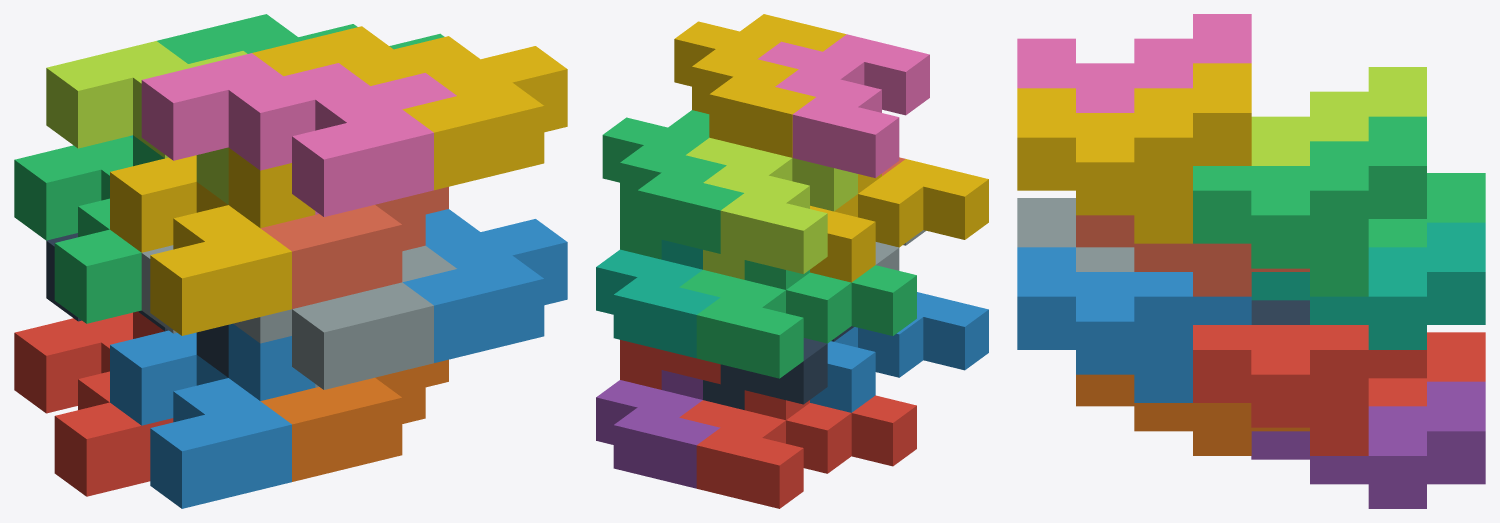
Rendered from tiling.obj.
3 views of the same model, side by side, from view 1: azimuth 30°, elevation 25°; view 2: azimuth 150°, elevation 25°; view 3: azimuth 270°, elevation 25° (orthographic). The views are drawn at different scales.
Parts seen in each view (by area): view 1: copy_2_domain_4, copy_1_domain_4, copy_1_domain_2, copy_2_domain_8, copy_1_domain_1, copy_2_domain_6, copy_1_domain_3, copy_2_domain_2, copy_1_domain_6, copy_1_domain_8, copy_2_domain_3, copy_2_domain_7 (+1 smaller); view 2: copy_1_domain_1, copy_1_domain_3, copy_2_domain_4, copy_2_domain_3, copy_2_domain_8, copy_2_domain_7, copy_1_domain_4, copy_1_domain_2, copy_1_domain_7, copy_1_domain_5, copy_2_domain_1, copy_2_domain_5 (+1 smaller); view 3: copy_2_domain_8, copy_2_domain_7, copy_2_domain_6, copy_2_domain_5, copy_1_domain_5, copy_1_domain_7, copy_2_domain_4, copy_2_domain_3, copy_1_domain_6, copy_1_domain_8, copy_1_domain_1, copy_1_domain_3 (+2 smaller).
Part boxes in pixels (left/top/right/bottom): copy_2_domain_4: left=141, top=53, right=456, bottom=216; copy_1_domain_4: left=110, top=148, right=315, bottom=335; copy_1_domain_2: left=110, top=323, right=315, bottom=508; copy_2_domain_8: left=252, top=26, right=567, bottom=190; copy_1_domain_1: left=14, top=311, right=173, bottom=496; copy_2_domain_6: left=402, top=209, right=567, bottom=362; copy_1_domain_3: left=14, top=135, right=164, bottom=323; copy_2_domain_2: left=141, top=245, right=456, bottom=389; copy_1_domain_6: left=260, top=359, right=448, bottom=481; copy_1_domain_8: left=261, top=187, right=448, bottom=308; copy_2_domain_3: left=46, top=41, right=247, bottom=204; copy_2_domain_7: left=157, top=14, right=444, bottom=63; copy_1_domain_1: left=679, top=390, right=916, bottom=508; copy_1_domain_3: left=679, top=260, right=916, bottom=378; copy_2_domain_4: left=757, top=34, right=929, bottom=177; copy_2_domain_3: left=686, top=137, right=857, bottom=279; copy_2_domain_8: left=674, top=14, right=846, bottom=157; copy_2_domain_7: left=602, top=110, right=743, bottom=259; copy_1_domain_4: left=810, top=159, right=988, bottom=282; copy_1_domain_2: left=810, top=292, right=988, bottom=412; copy_1_domain_7: left=596, top=240, right=720, bottom=358; copy_1_domain_5: left=596, top=370, right=720, bottom=488; copy_2_domain_1: left=703, top=326, right=854, bottom=409; copy_2_domain_5: left=620, top=340, right=720, bottom=389; copy_2_domain_8: left=1017, top=63, right=1251, bottom=243; copy_2_domain_7: left=1193, top=116, right=1426, bottom=296; copy_2_domain_6: left=1017, top=247, right=1251, bottom=402; copy_2_domain_5: left=1193, top=325, right=1426, bottom=455; copy_1_domain_5: left=1251, top=381, right=1485, bottom=508; copy_1_domain_7: left=1251, top=222, right=1485, bottom=349; copy_2_domain_4: left=1017, top=14, right=1251, bottom=112; copy_2_domain_3: left=1251, top=67, right=1426, bottom=165; copy_1_domain_6: left=1076, top=374, right=1309, bottom=455; copy_1_domain_8: left=1076, top=215, right=1309, bottom=296; copy_1_domain_1: left=1368, top=332, right=1485, bottom=406; copy_1_domain_3: left=1368, top=173, right=1485, bottom=247.
Bounding box in the file's own units: 7 × 7 × 8.
